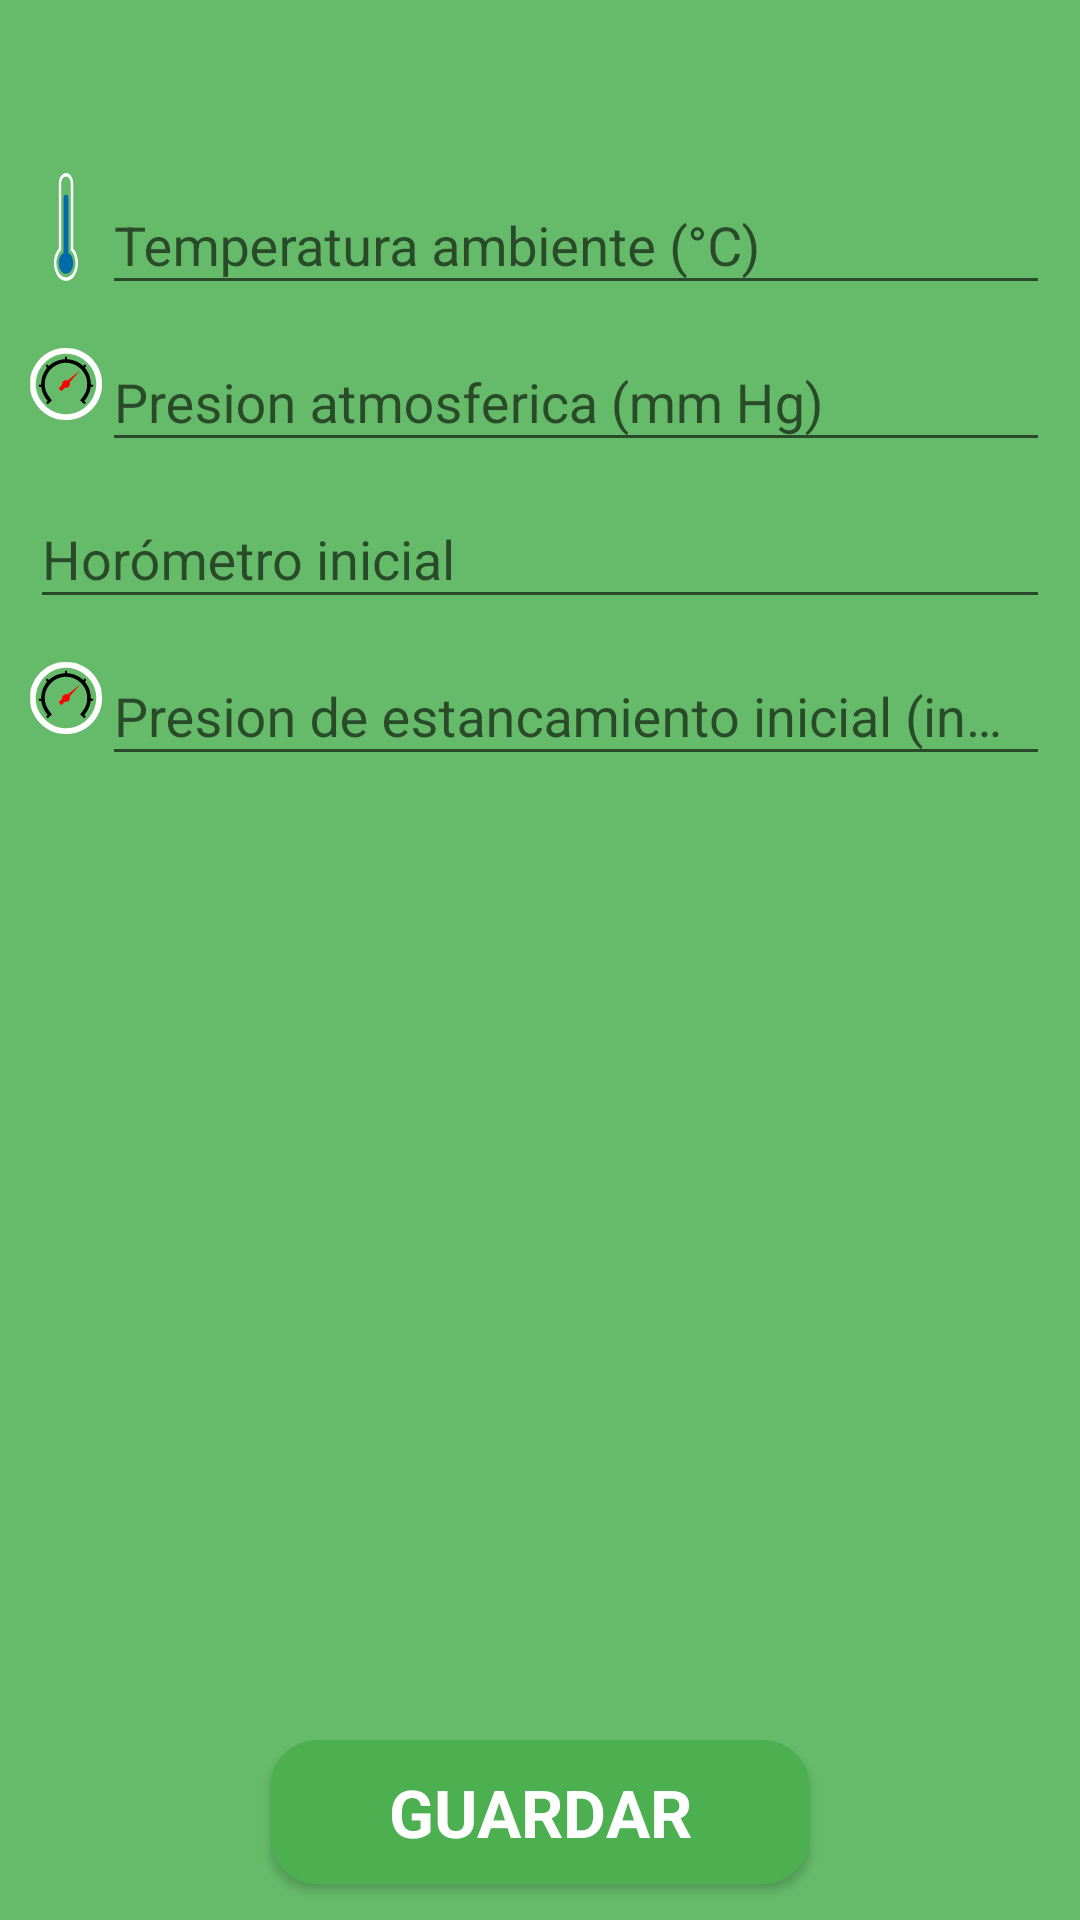

Icons on this 1080x1920 Android screen, each with the point to tap as (x=x, y=y):
pressure: (x=66, y=384), (x=66, y=698)
